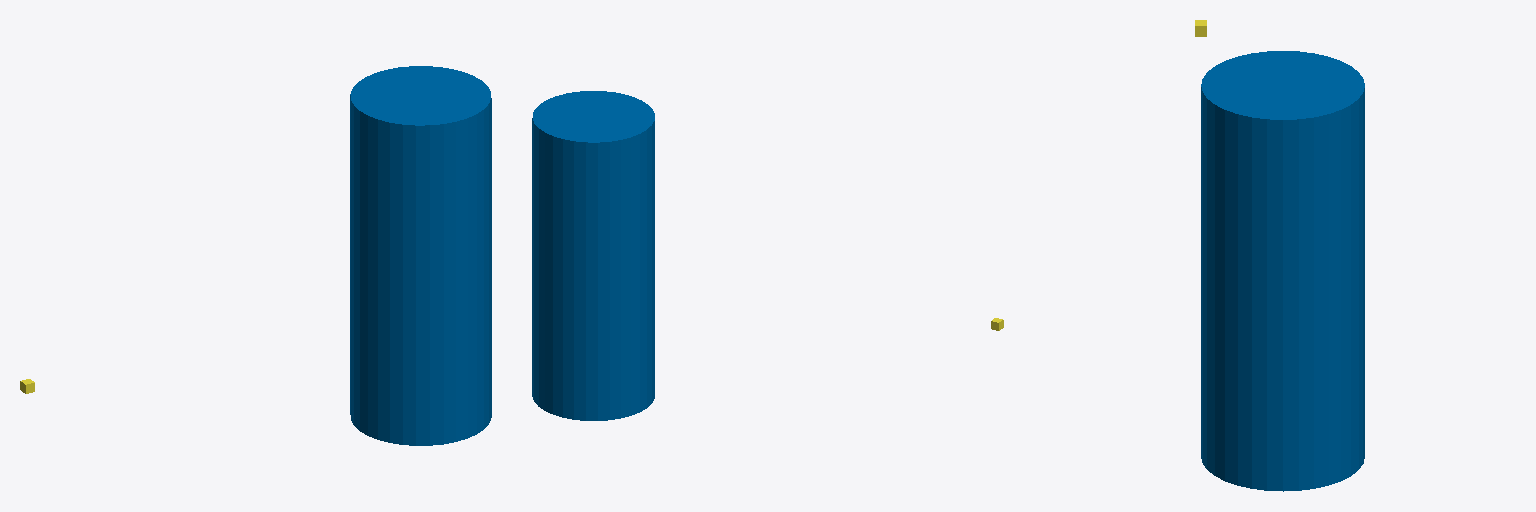
URDF robot description (omav_pathfinder):
<?xml version="1.0" encoding="utf-8"?>
<robot name="omav_pathfinder">
    <!-- Inertia box Ixx = 1/12 * (ly*2 + lh*2)-->
    <link name="odom"/>

    <joint name="pos_x" type="prismatic">
        <origin rpy="0 0 0" xyz="0 0 0"/>
        <parent link="odom"/>
        <child link="omav_x"/>
        <axis xyz="1 0 0"/>
        <limit effort="1000" lower="-30.14" upper="30.14" velocity="2.0"/>
    </joint>

    <link name="omav_x">
        <inertial>
            <origin xyz="0.0 0.0 0.0" rpy="0 0 0"/>
            <mass value="1.0"/>
            <inertia ixx="0.001667" ixy="0.0" ixz="0.0" iyy="0.0841667" iyz="0.0" izz="0.084167"/>
        </inertial>
        <visual>
            <origin xyz="0.0 0.0 0.0" rpy="0 0 0"/>
            <geometry>
                <box size="0.03 0.03 0.03"/>
            </geometry>
        </visual>
    </link>

    <joint name="pos_y" type="prismatic">
        <origin rpy="0 0 0" xyz="0 0 0"/>
        <parent link="omav_x"/>
        <child link="omav_y"/>
        <axis xyz="0 1 0"/>
        <limit effort="1000" lower="-30.14" upper="30.14" velocity="2.0"/>
    </joint>
    <link name="omav_y">
        <inertial>
            <origin xyz="0.0 0.0 0.0" rpy="0 0 0"/>
            <mass value="1.0"/>
            <inertia ixx="0.001667" ixy="0.0" ixz="0.0" iyy="0.0841667" iyz="0.0" izz="0.084167"/>
        </inertial>
        <visual>
            <origin xyz="0.0 0.0 0.0" rpy="0 0 0"/>
            <geometry>
                <box size="0.03 0.03 0.03"/>
            </geometry>
        </visual>
    </link>
    <joint name="pos_z" type="prismatic">
        <origin rpy="0 0 0" xyz="0 0 0"/>
        <parent link="omav_y"/>
        <child link="omav_z"/>
        <axis xyz="0 1 0"/>
        <limit effort="1000" lower="-30.14" upper="30.14" velocity="2.0"/>
    </joint>
    <link name="omav_z">
        <inertial>
            <origin xyz="0.0 0.0 0.0" rpy="0 0 0"/>
            <mass value="1.0"/>
            <inertia ixx="0.001667" ixy="0.0" ixz="0.0" iyy="0.0841667" iyz="0.0" izz="0.084167"/>
        </inertial>
        <visual>
            <origin xyz="0.0 0.0 0.0" rpy="0 0 0"/>
            <geometry>
                <box size="0.3 0.3 0.3"/>
            </geometry>
        </visual>
    </link>

    <joint name="fixed" type="fixed">
        <parent link="odom"/>
        <child link="obstacle"/>
        <origin xyz="14.0 2.0 0.0" rpy="0 0 0"/>
    </joint>

    <link name="obstacle">
        <inertial>
            <origin xyz="0.0 0.0 0.0" rpy="0 0 0"/>
            <mass value="1.0"/>
            <inertia ixx="0.001667" ixy="0.0" ixz="0.0" iyy="0.0841667" iyz="0.0" izz="0.084167"/>
       </inertial>
       <visual>
            <origin xyz="0.0 0.0 0.0" rpy="0 0 0"/>
            <geometry>
                <cylinder length="10" radius="2"/>
            </geometry>
       </visual>
    </link>
</robot>

--- Render facts (derived) ---
The picture shows the robot from 3 angles, left to right: view 1: azimuth 30°, elevation 25°; view 2: azimuth 150°, elevation 25°; view 3: azimuth 270°, elevation 25°; orthographic projection.
Robot: omav_pathfinder — 5 links, 4 joints (3 prismatic, 1 fixed); root link odom; default pose: every joint at zero.
Links seen in each view (by area): view 1: obstacle; view 2: obstacle; view 3: obstacle.
Boxes of the visible links, x1,y1,x2,y2 form: obstacle: (350,66,491,445); obstacle: (532,91,654,420); obstacle: (1201,51,1364,491).
Size in the robot's own frame: 16.15 by 4.15 by 10 metres.
Geometry: primitives only (box / cylinder / sphere), no mesh files.